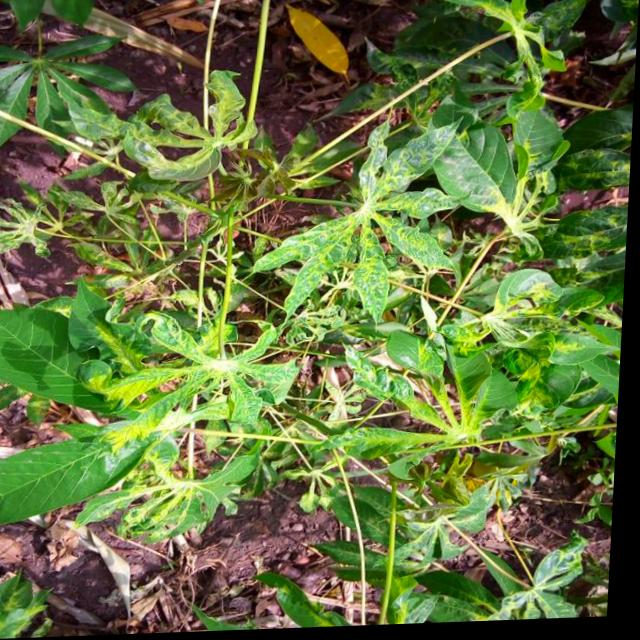Mosaico: (68, 331, 232, 520), (236, 132, 441, 277), (30, 455, 335, 551), (104, 69, 308, 177), (123, 316, 321, 421), (365, 355, 512, 489), (476, 238, 607, 378)
